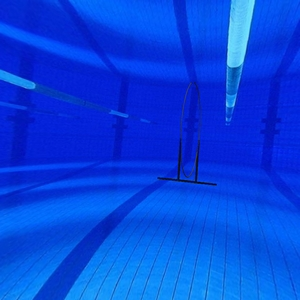circle: (156, 80, 219, 189)
